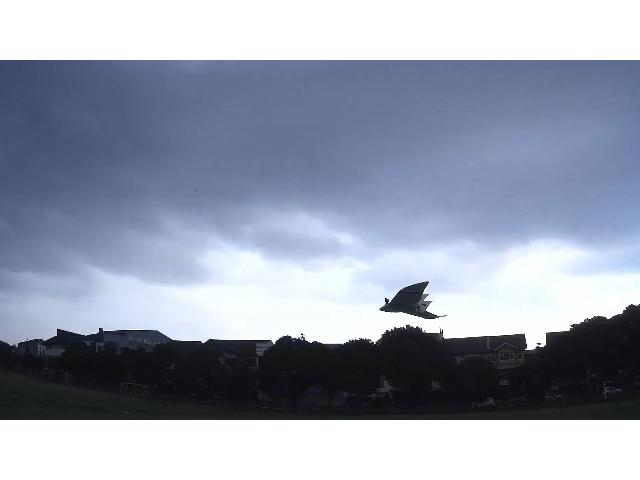Anti-Drone: (379, 281, 447, 319)
